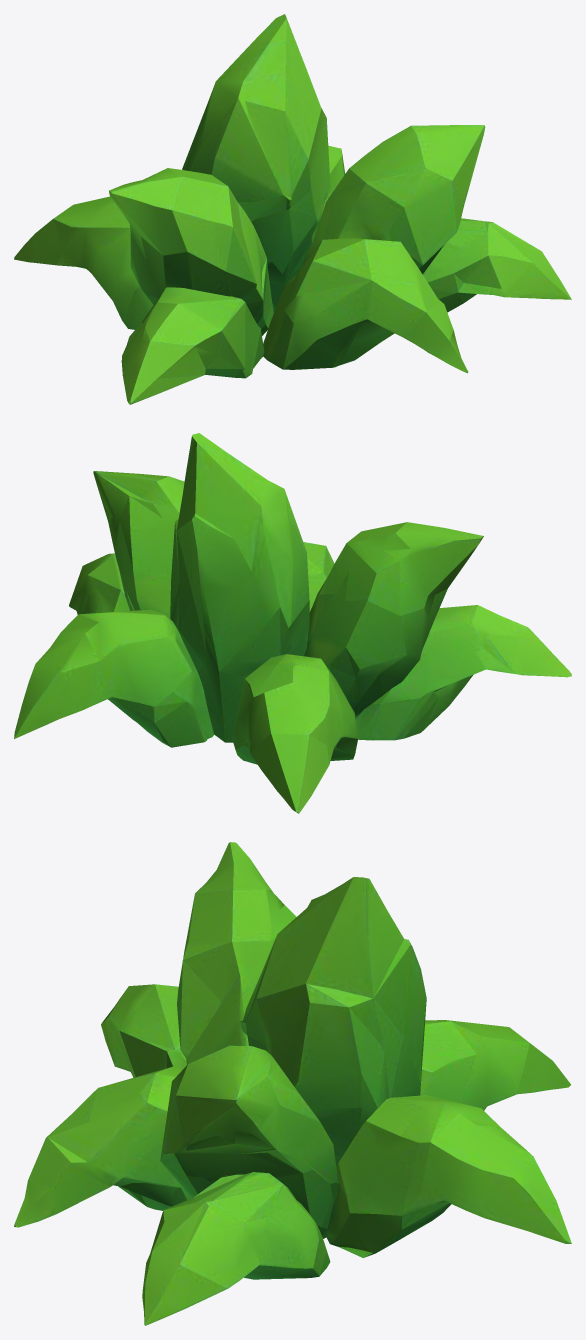
The model's file is grass_clump_mobile.glb.
3 renders of one model, top to bottom at view 1: azimuth 30°, elevation 25°; view 2: azimuth 150°, elevation 25°; view 3: azimuth 270°, elevation 25°, orthographic. The views are drawn at different scales.
Visible parts, largest first — view 1: output_unwrapped; view 2: output_unwrapped; view 3: output_unwrapped.
Part boxes in pixels (<box>): output_unwrapped: <box>14,14,571,404</box>; output_unwrapped: <box>14,433,571,813</box>; output_unwrapped: <box>14,842,571,1325</box>.
Bounding box in the file's own units: 1.9 × 1.1 × 1.63.
1 material, 1 textured.
